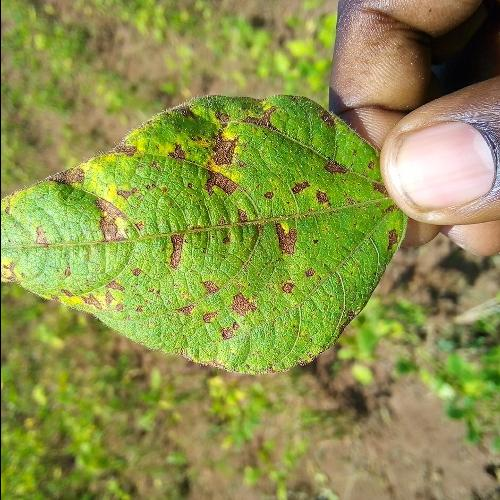hawar: (166, 86, 288, 202), (182, 273, 278, 351), (46, 253, 148, 320), (228, 204, 306, 268), (290, 148, 353, 207), (362, 157, 400, 253), (86, 199, 135, 250), (274, 261, 322, 303), (39, 156, 90, 192), (158, 226, 195, 268), (114, 130, 145, 170), (0, 253, 25, 292), (30, 220, 60, 252), (0, 188, 25, 226), (312, 108, 339, 132)
